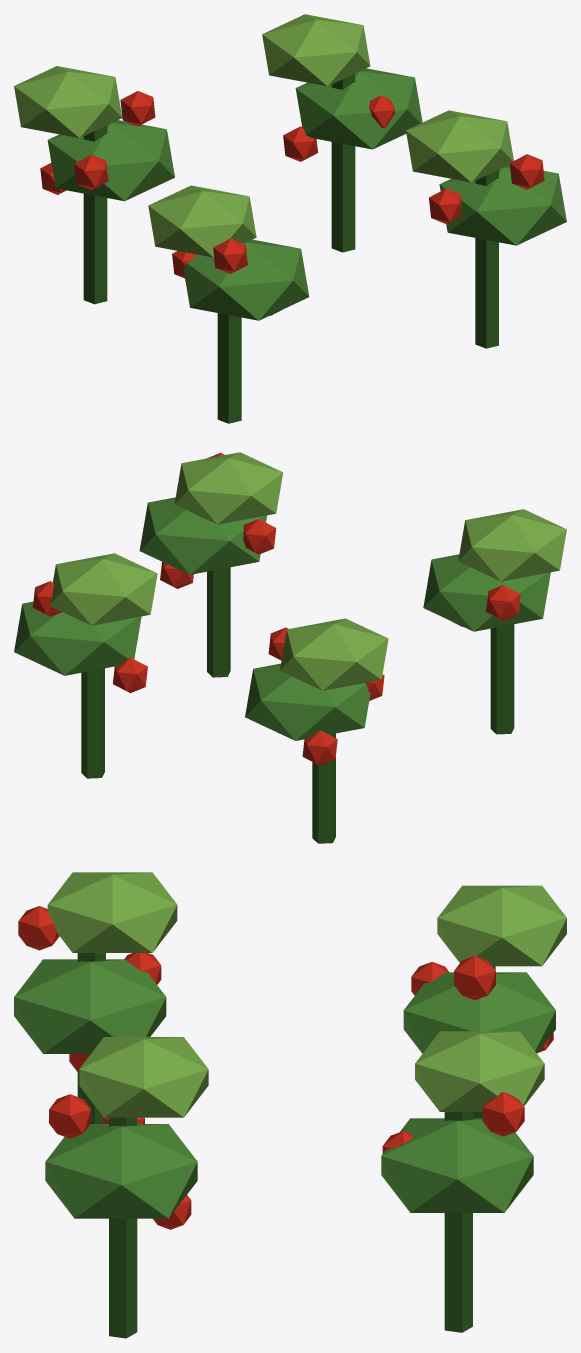
The model's file is crop_tomato_mature.glb.
3 views of the same model, one above another, from view 1: azimuth 30°, elevation 25°; view 2: azimuth 150°, elevation 25°; view 3: azimuth 270°, elevation 25° (orthographic). The views are drawn at different scales.
Parts seen in each view (by area): view 1: crop_tomato_mature; view 2: crop_tomato_mature; view 3: crop_tomato_mature.
Boxes of the visible parts, <box> form: crop_tomato_mature: <box>14,14,566,423</box>; crop_tomato_mature: <box>14,452,566,843</box>; crop_tomato_mature: <box>14,872,566,1338</box>.
Bounding box in the file's own units: 1.31 × 0.6935 × 1.23.
